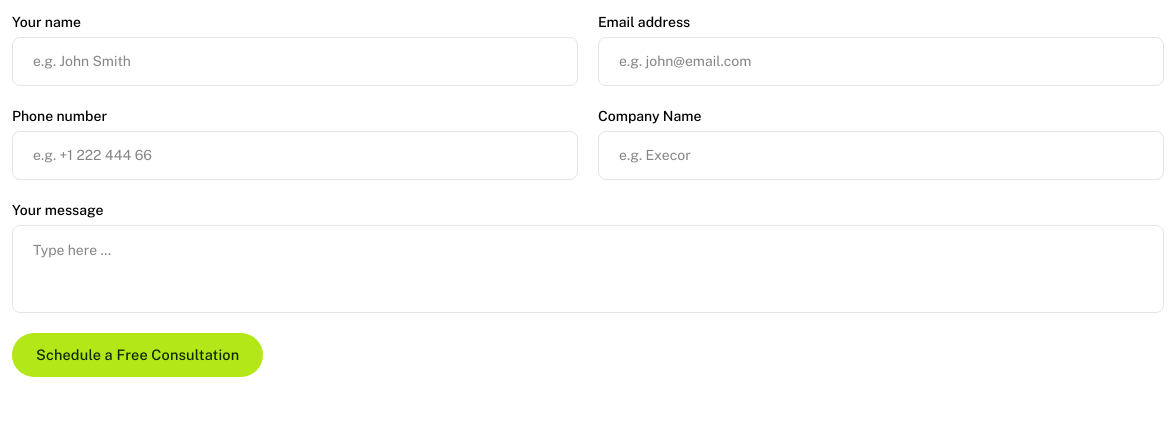
Scenario: ConsultationForm › shows the server error and keeps the form when submission fails
The width and height of the screenshot is (1176, 438).
Click the button "Schedule a Free Consultation" at (138, 355), box [12,332,263,377]
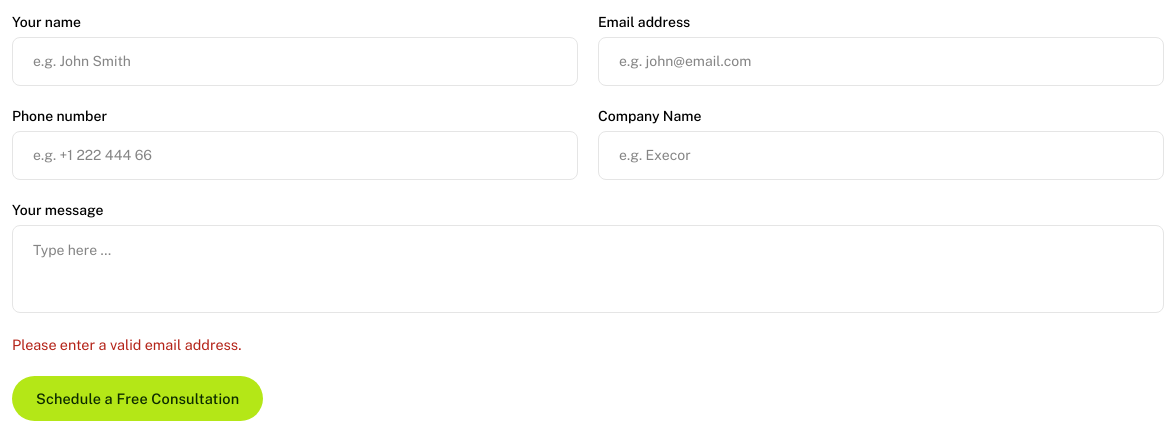
Expected: the field labelled "Your name" is shown, [12,36,578,86]
Now the message reads "Please enter a valid email address.", box [12,336,241,353]
